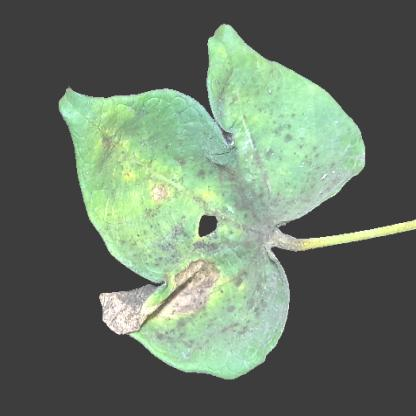curl_stage1: (101, 104, 171, 200), (189, 180, 216, 210)
sooty: (216, 159, 288, 301), (159, 296, 258, 355), (286, 135, 346, 203), (144, 228, 216, 277), (107, 286, 153, 326)
